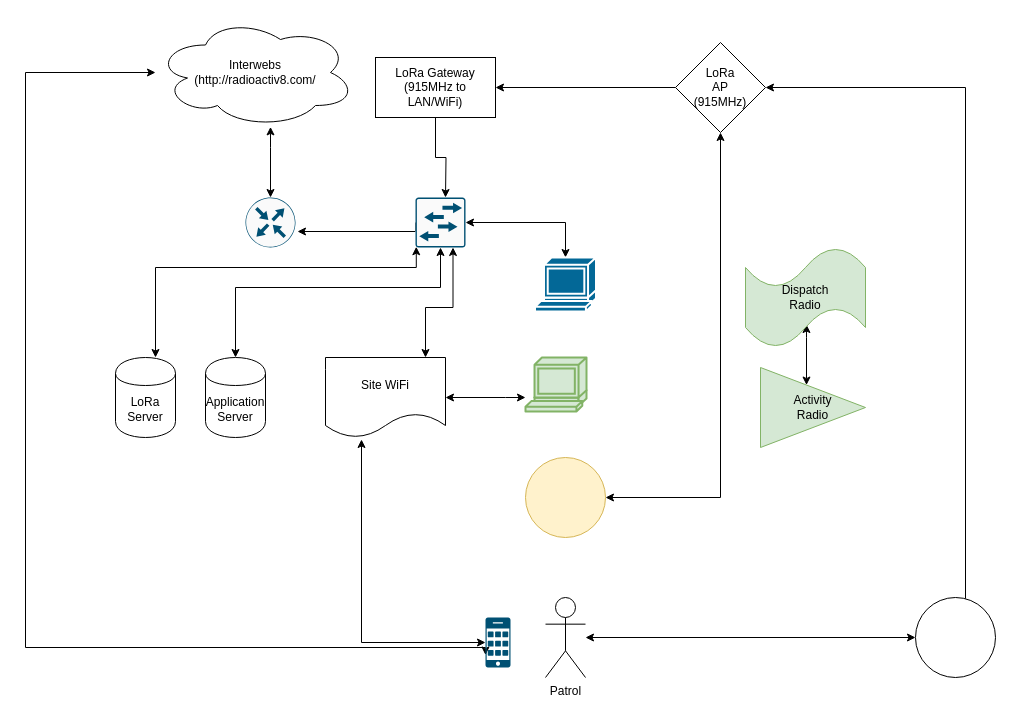
Some shapes in this 1013 by 716 pixel diagram are drawn without their labels. The box of each missing label's shape, as (x1, y1, x2, y2) in pixels:
4-Button LoRa: (524, 456, 606, 538)
Activity PC: (524, 356, 587, 412)
Dispatch PC: (534, 256, 596, 312)
GPS unit: (914, 596, 996, 678)
